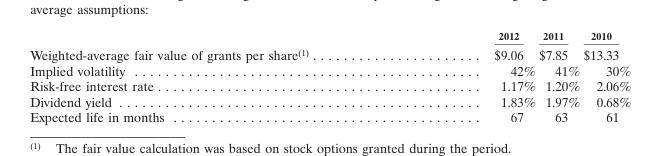table: (29, 28, 630, 124)
table column: (29, 28, 400, 124), (400, 28, 536, 124), (581, 28, 630, 124), (536, 28, 581, 124)
table column header: (29, 28, 630, 44)
table row: (29, 44, 630, 62), (29, 28, 630, 44), (29, 62, 630, 78), (29, 93, 630, 109), (29, 78, 630, 93), (29, 109, 630, 124)
